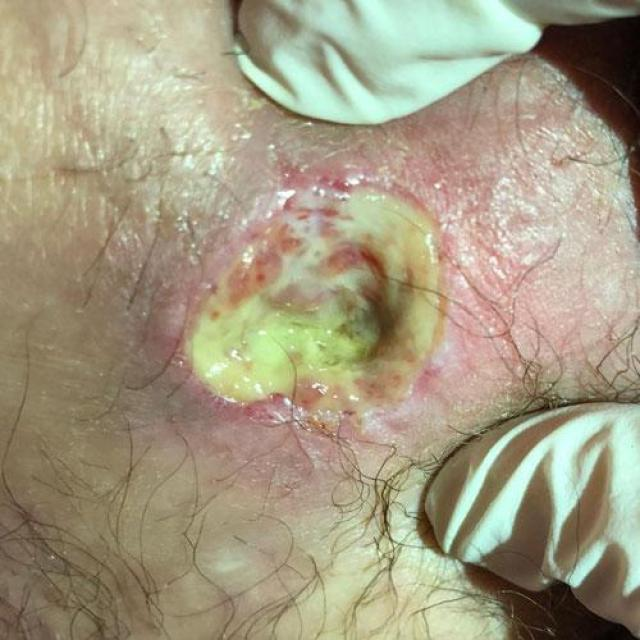Unstageable: (188, 186, 444, 412)
